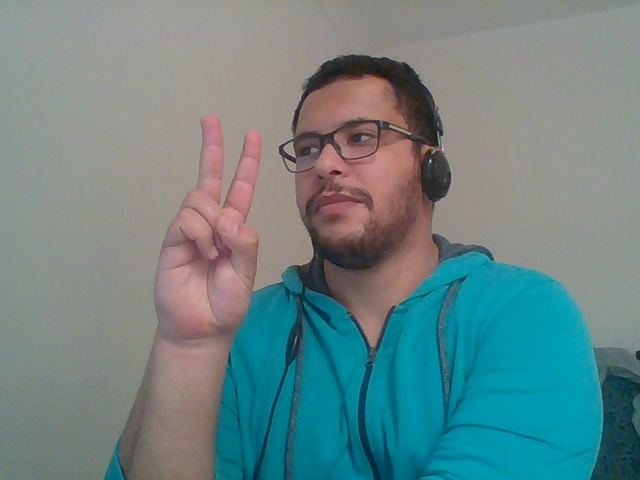vectory: (136, 100, 280, 393)
